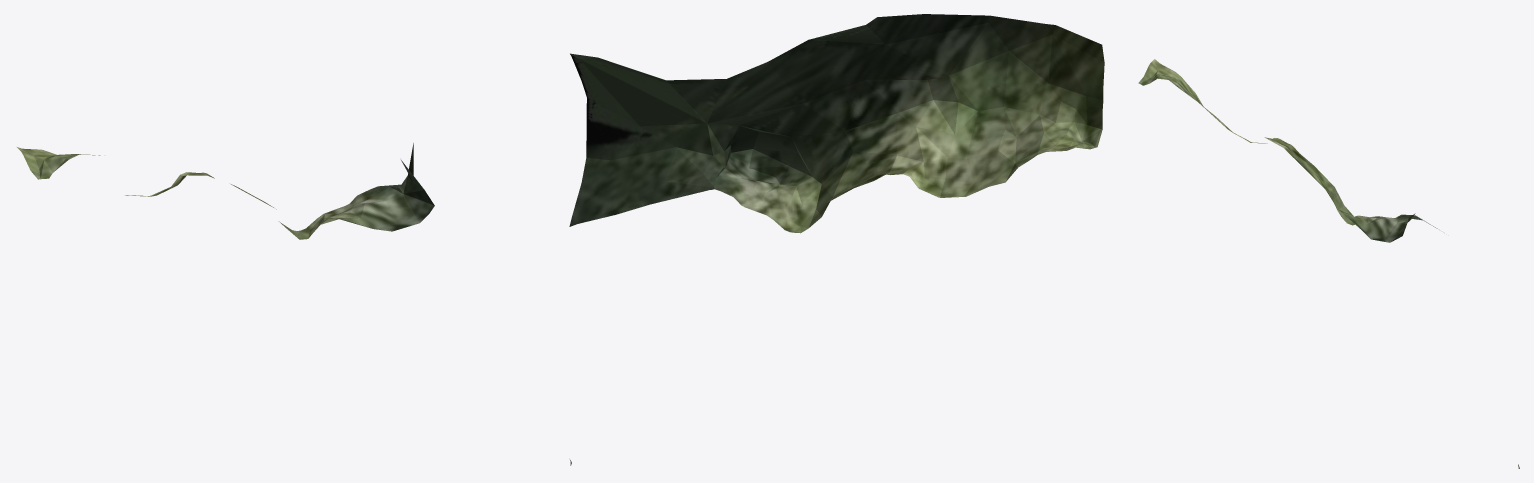
3 views of the same model, side by side, from view 1: azimuth 30°, elevation 25°; view 2: azimuth 150°, elevation 25°; view 3: azimuth 330°, elevation 25° (orthographic). The views are drawn at different scales.
Bounding box in the file's own units: 5.9 × 5.88 × 0.9198.
1 material, 1 textured.
